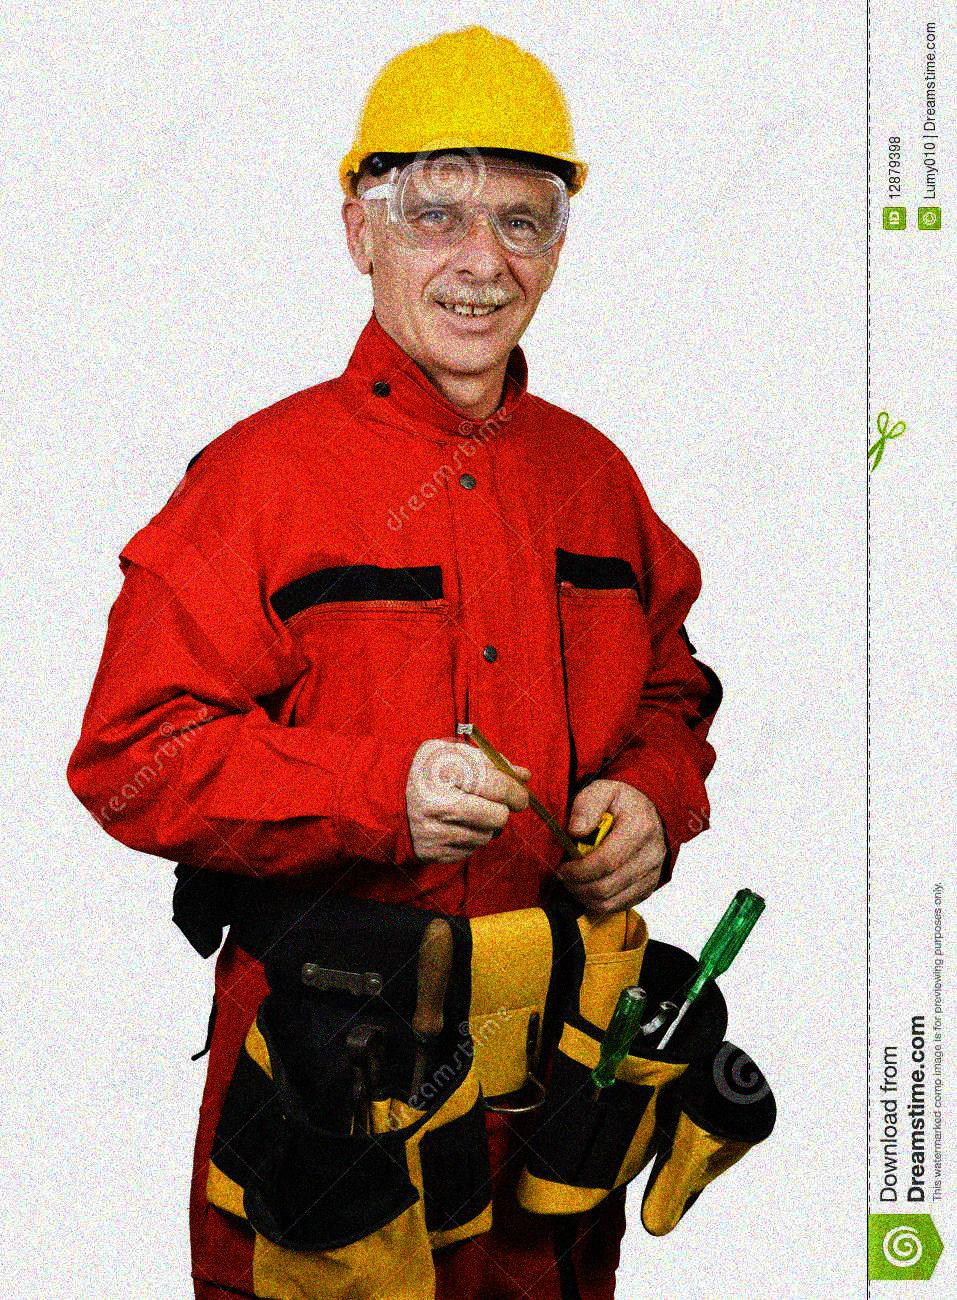helmet: (335, 23, 586, 373)
